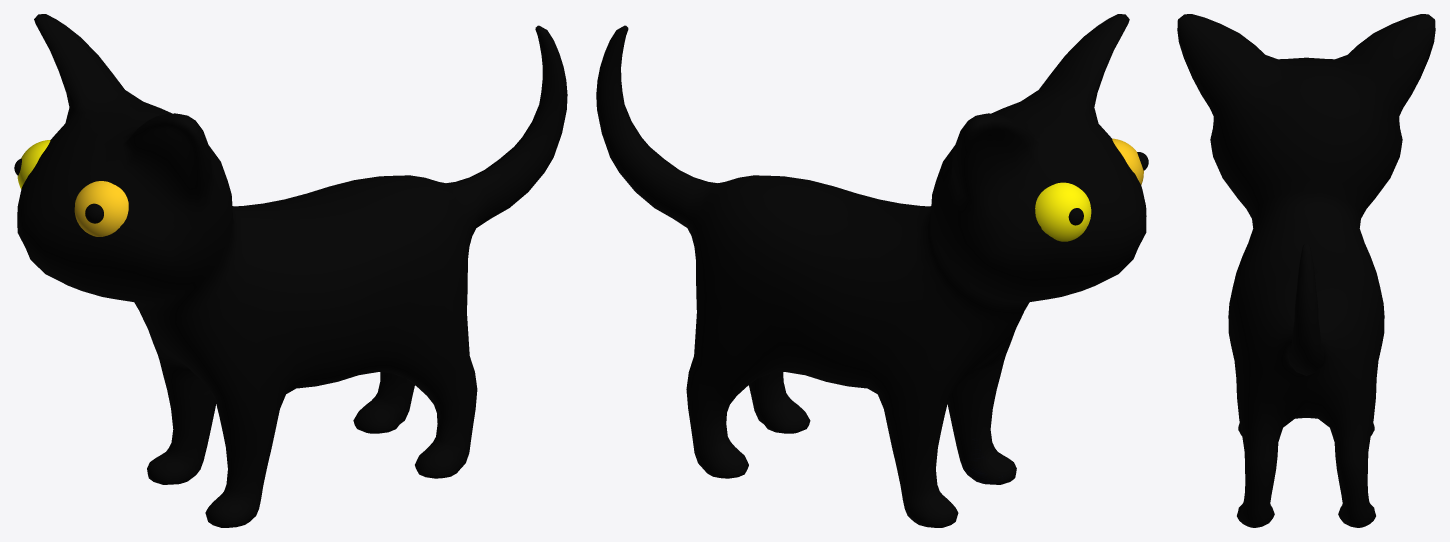
The model's file is obj_popo.fbx.
3 renders of one model, left to right at view 1: azimuth 30°, elevation 25°; view 2: azimuth 150°, elevation 25°; view 3: azimuth 270°, elevation 25°, orthographic. The views are drawn at different scales.
Visible parts, largest first — view 1: root (×3); view 2: root (×2); view 3: root.
Part boxes in pixels (x1,y1,x2,y2): root (×3): [17, 14, 567, 527]; root (×2): [596, 14, 1146, 527]; root: [1177, 14, 1435, 527].
Bounding box in the file's own units: 0.6103 × 0.489 × 0.2979.
Materials: 4 (4 with a texture image).
